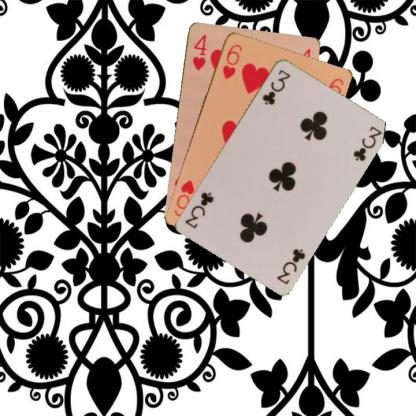3c: (259, 66, 292, 107), (274, 245, 307, 286)
4h: (190, 31, 208, 72)
6h: (220, 41, 243, 80)
